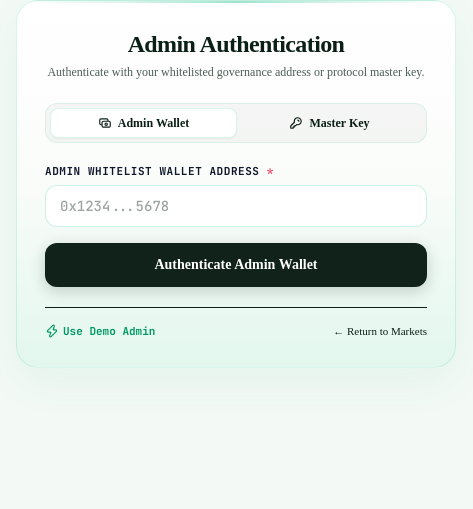
Test: AdminLoginForm Component › shows access denied error when wallet is not authorized
The image size is (473, 509).
Type "0x0000000000000000000000000000000000000001" into the field labelled "Admin Whitelist Wallet Address *" at (236,206), box [45,185,427,227]
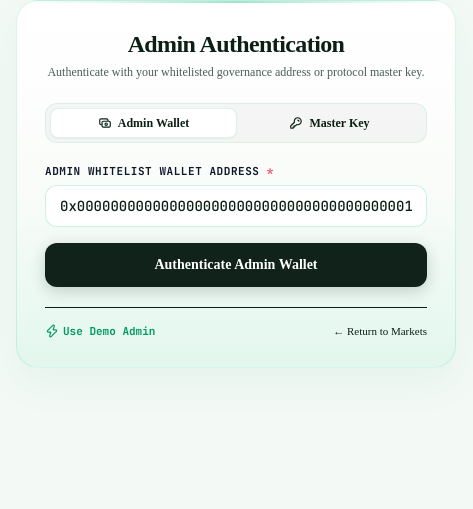
Click the button "Authenticate Admin Wallet" at (236,265), box [45,243,427,287]
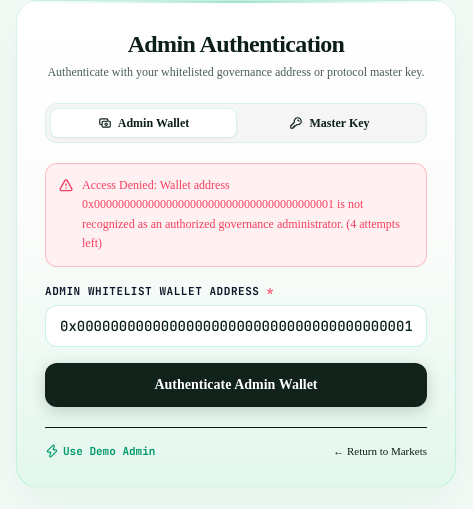
Expected: the text "access denied: wallet address 0x0000000000000000000000000000000000000001 is not recognized" is shown, [82,178,400,250]
